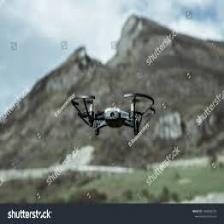drone: (71, 95, 154, 133)
